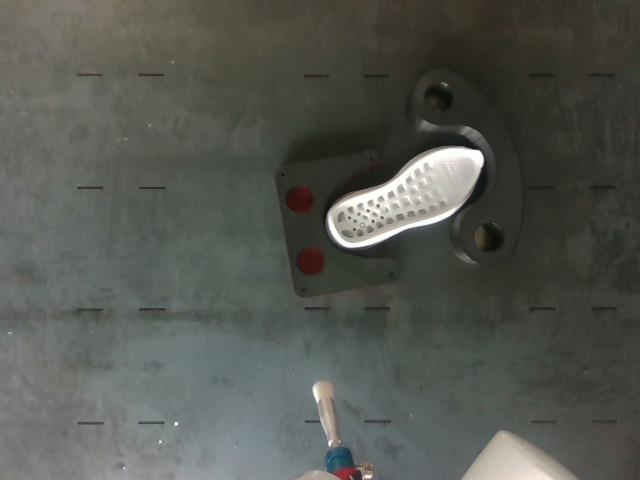shoes: (329, 148, 484, 246)
